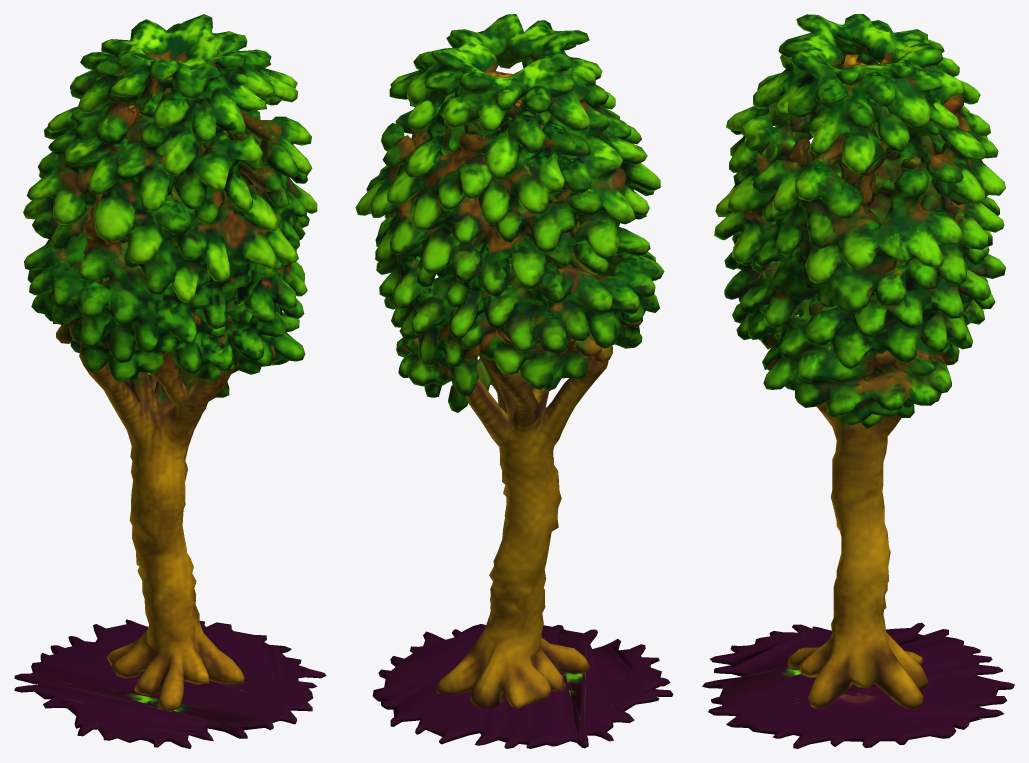
File: emerald_canopy_2.glb
3 renders of one model, left to right at view 1: azimuth 30°, elevation 25°; view 2: azimuth 150°, elevation 25°; view 3: azimuth 270°, elevation 25°, orthographic.
Size of the model in its own units: 0.8141 by 1.9 by 0.818.
Materials: 1 (1 with a texture image).
